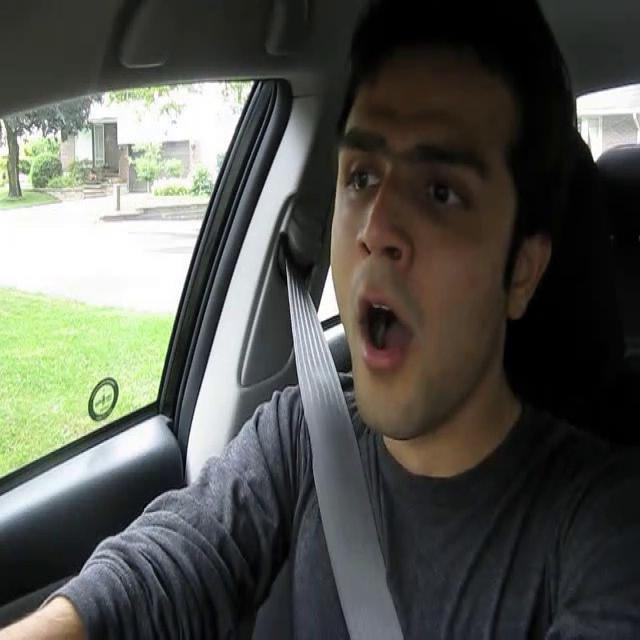open: (410, 140, 492, 229), (335, 125, 390, 208)
